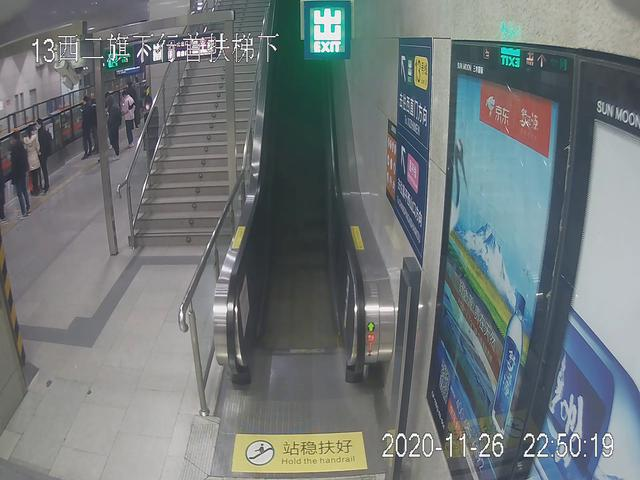person: (9, 133, 31, 222), (36, 111, 53, 193), (118, 85, 139, 147), (26, 127, 42, 194), (107, 94, 121, 161), (82, 95, 93, 157)
